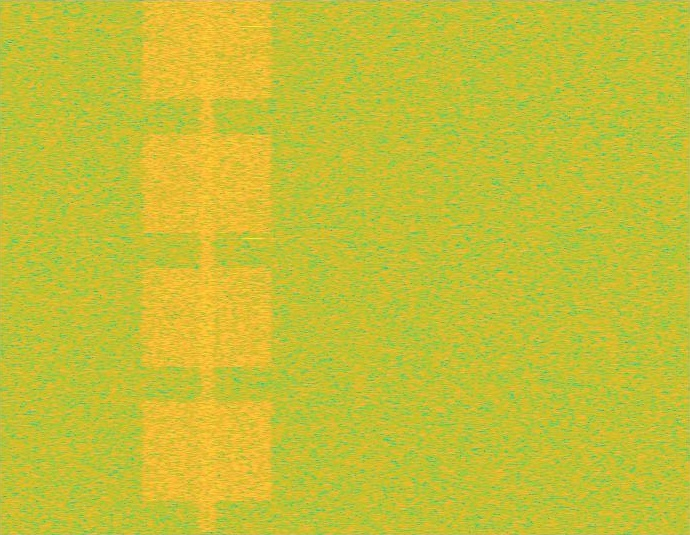5G: (138, 0, 276, 534)
DSSS: (198, 0, 216, 534)
Radar: (246, 0, 260, 534)
